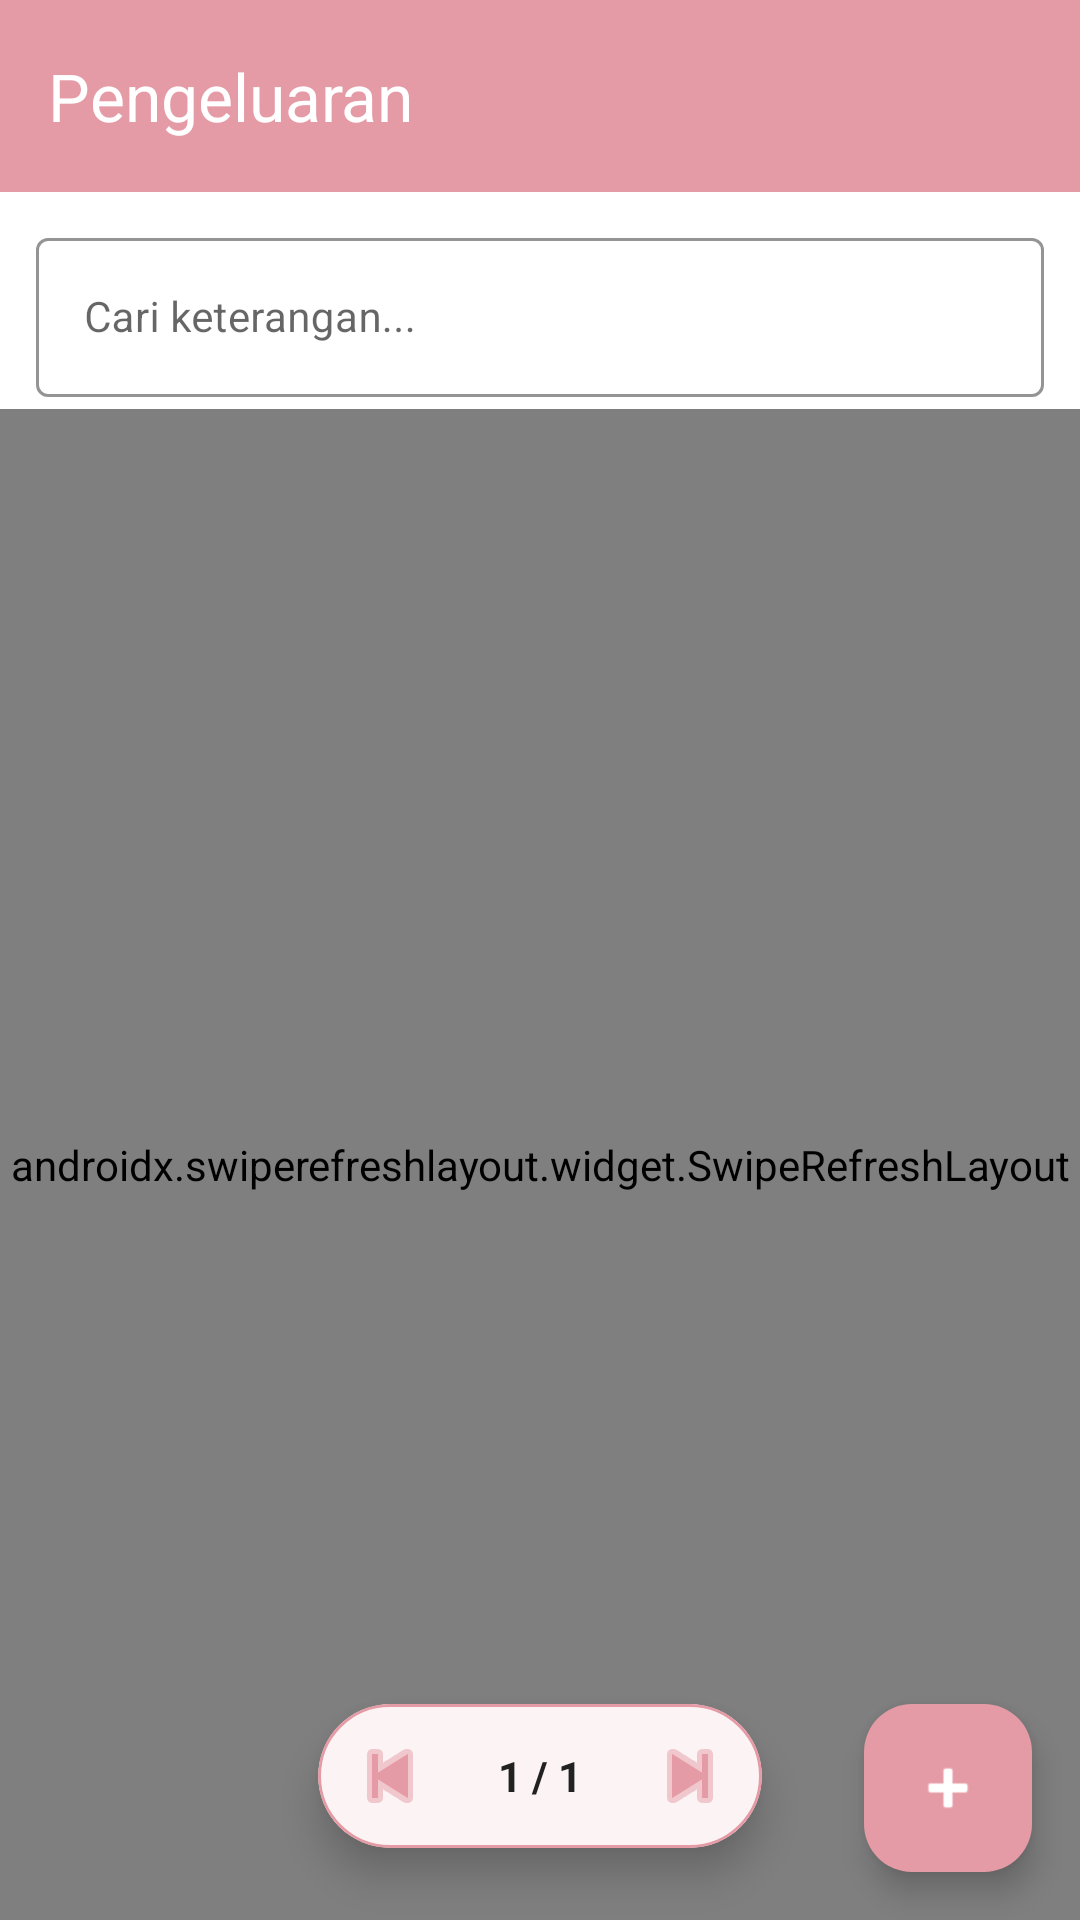

Icons on this 1080 × 1920 Android screen, each with its box as (x1, y1, x2, y2):
add: (864, 1704, 1032, 1872)
next: (667, 1749, 713, 1803)
previous: (367, 1749, 413, 1803)
